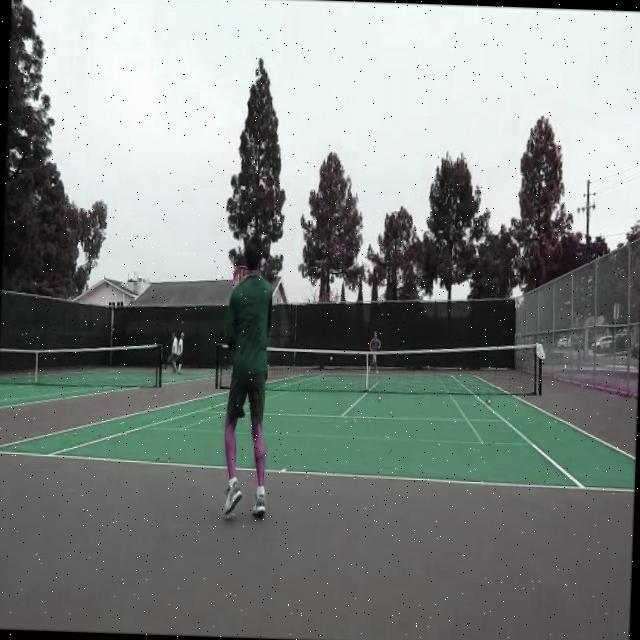court: (0, 359, 638, 491)
player: (218, 240, 275, 518)
